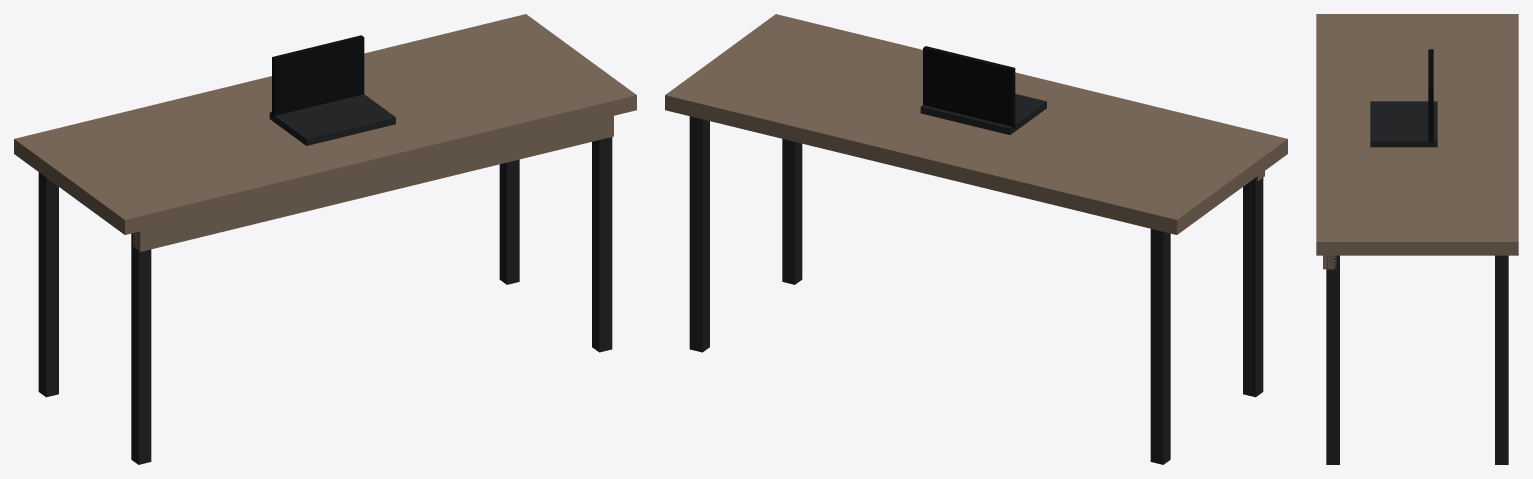
3 views of the same model, side by side, from view 1: azimuth 30°, elevation 25°; view 2: azimuth 150°, elevation 25°; view 3: azimuth 270°, elevation 25° (orthographic). The views are drawn at different scales.
Visible parts, largest first — view 1: desk; view 2: desk; view 3: desk.
Part boxes in pixels (left/top/right/bottom): desk: left=14, top=14, right=636, bottom=464; desk: left=665, top=14, right=1287, bottom=464; desk: left=1316, top=14, right=1518, bottom=464.
Bounding box in the file's own units: 1.6 × 0.95 × 0.6.
